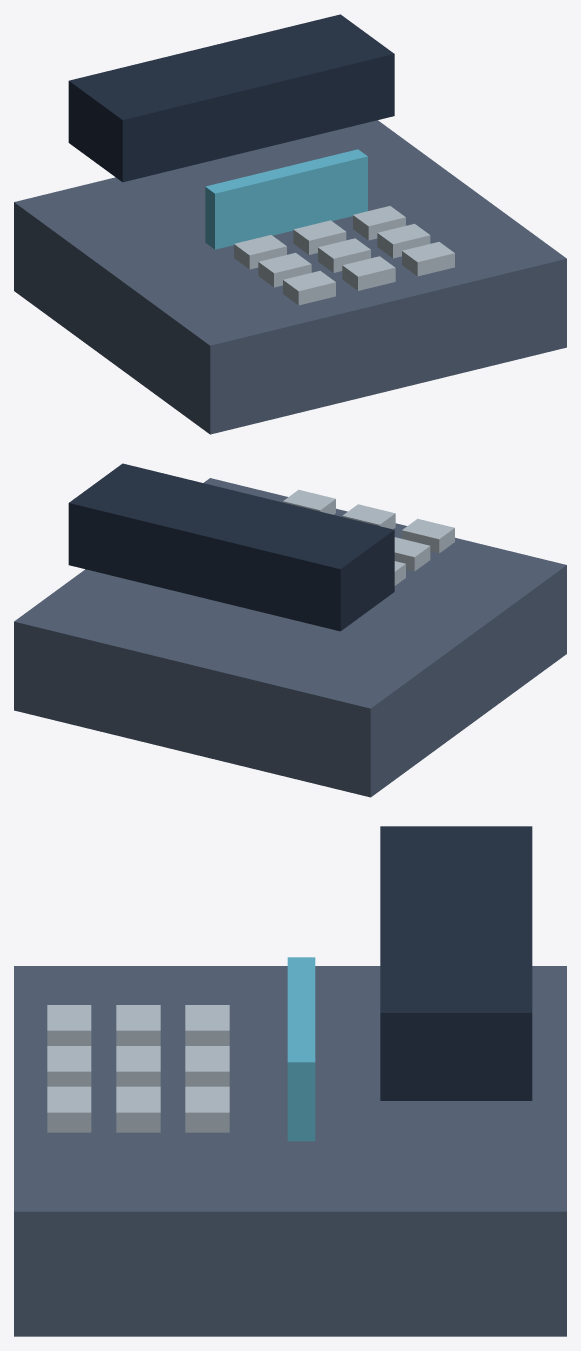
File: officeDeskPhone.glb
3 views of the same model, one above another, from view 1: azimuth 30°, elevation 25°; view 2: azimuth 150°, elevation 25°; view 3: azimuth 270°, elevation 25° (orthographic). The views are drawn at different scales.
Size of the model in its own units: 0.21 by 0.1175 by 0.2.
